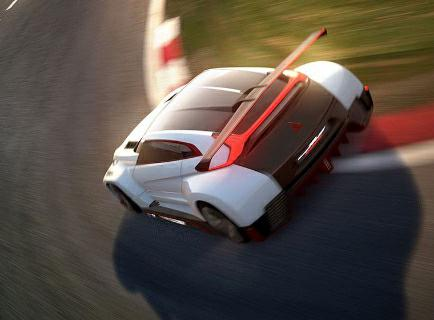三菱-XR-PHEV: (96, 58, 376, 239)
